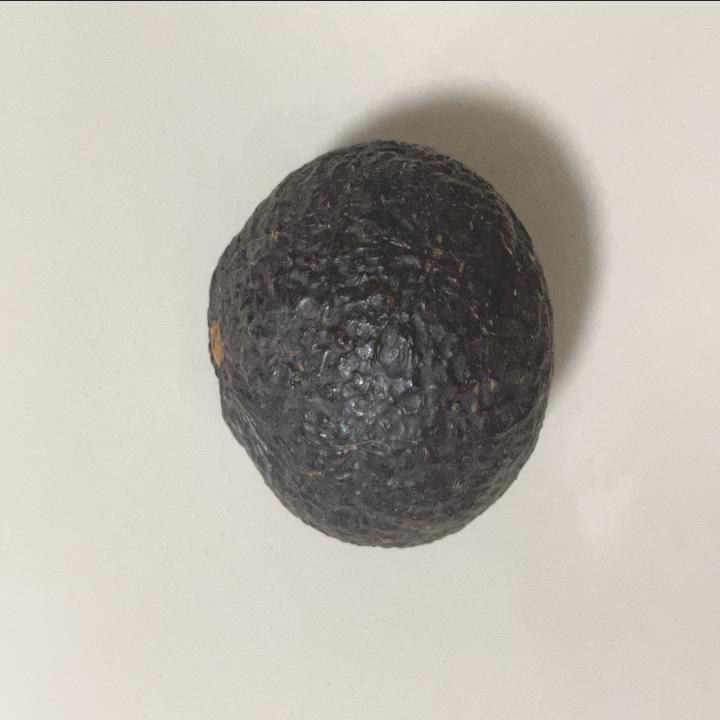Level3: (200, 129, 562, 562)
